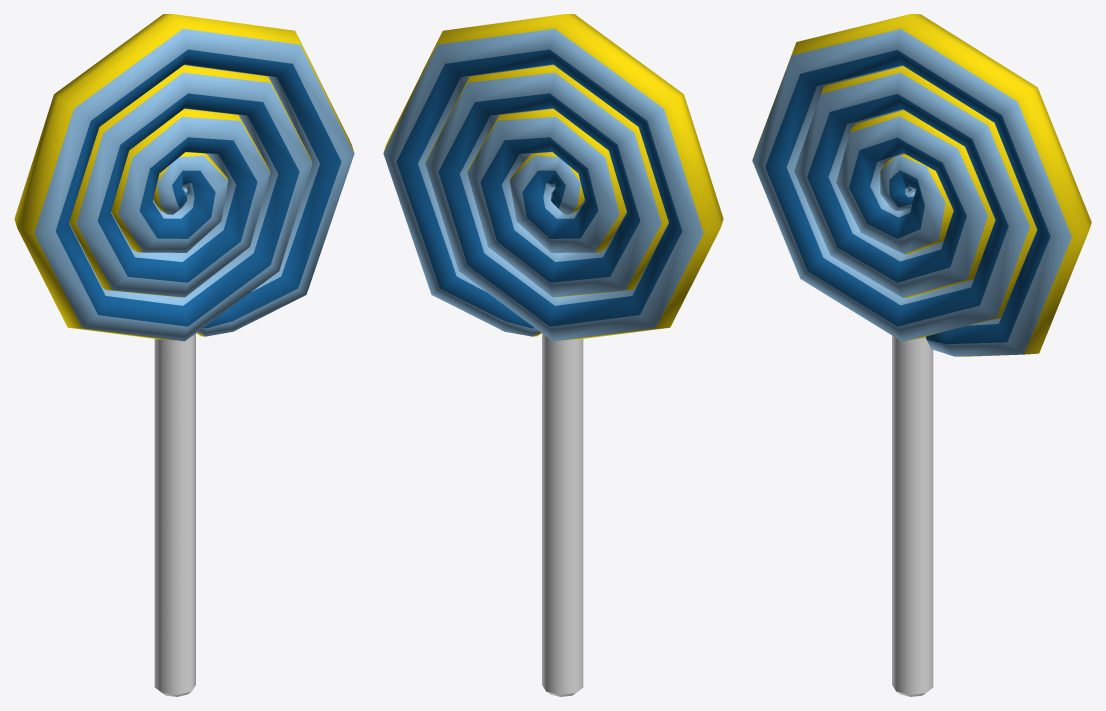
File: Candy_3.fbx
The picture shows the model from 3 angles, left to right: view 1: azimuth 30°, elevation 25°; view 2: azimuth 150°, elevation 25°; view 3: azimuth 330°, elevation 25°; orthographic projection.
Parts seen in each view (by area): view 1: Candy_3; view 2: Candy_3; view 3: Candy_3.
Part boxes in pixels (x1,y1,x2,y2): Candy_3: [14, 14, 354, 696]; Candy_3: [383, 14, 723, 696]; Candy_3: [752, 14, 1091, 696].
Bounding box in the file's own units: 1.76 × 3.41 × 0.2571.
